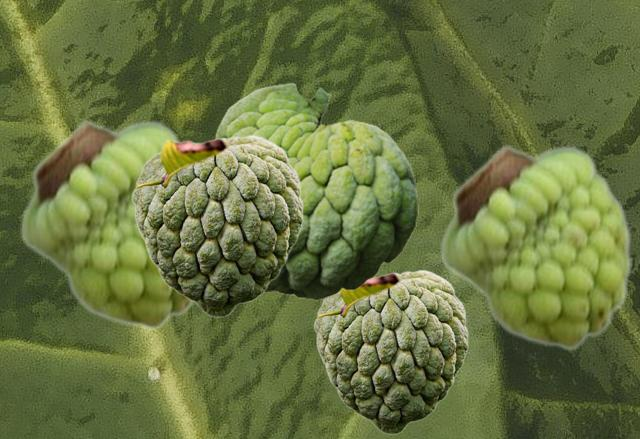atis: (212, 82, 417, 299), (440, 143, 632, 351), (20, 118, 195, 331), (131, 134, 302, 316), (313, 269, 467, 433)
